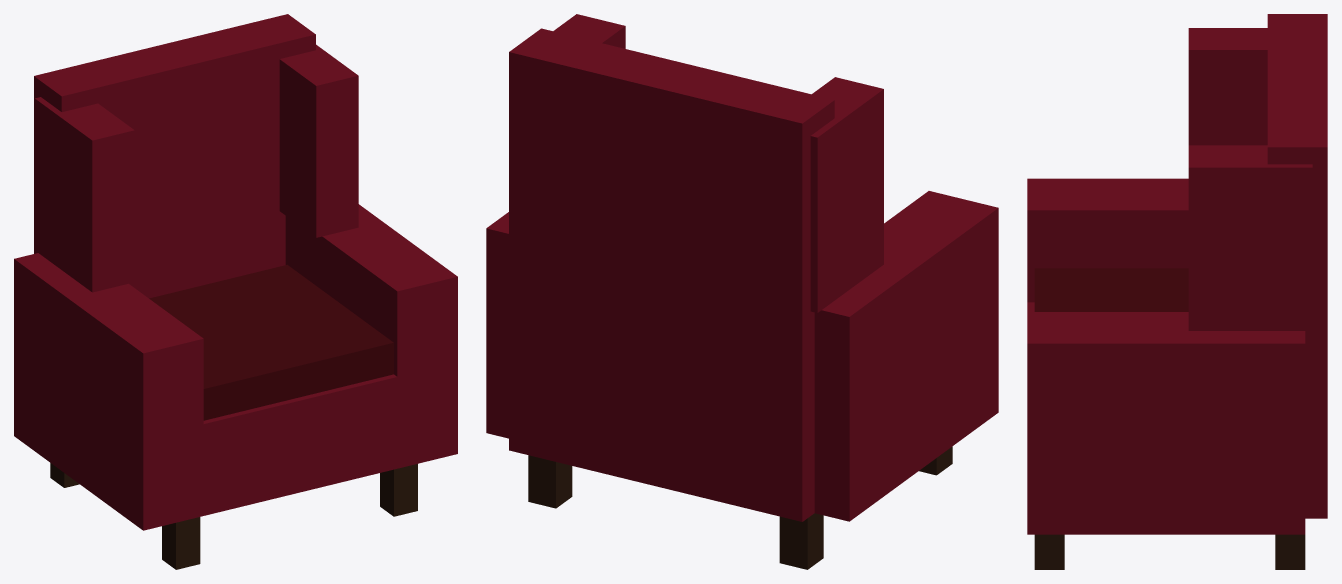
File: ge_wingback_chair.glb
3 views of the same model, side by side, from view 1: azimuth 30°, elevation 25°; view 2: azimuth 150°, elevation 25°; view 3: azimuth 270°, elevation 25° (orthographic). The views are drawn at different scales.
Visible parts, largest first — view 1: ge_wingback_chair; view 2: ge_wingback_chair; view 3: ge_wingback_chair.
Boxes of the visible parts, x1,y1,x2,y2 form: ge_wingback_chair: (14, 14, 457, 569); ge_wingback_chair: (486, 14, 998, 569); ge_wingback_chair: (1027, 14, 1327, 569).
Bounding box in the file's own units: 1.04 × 1.25 × 0.8.
